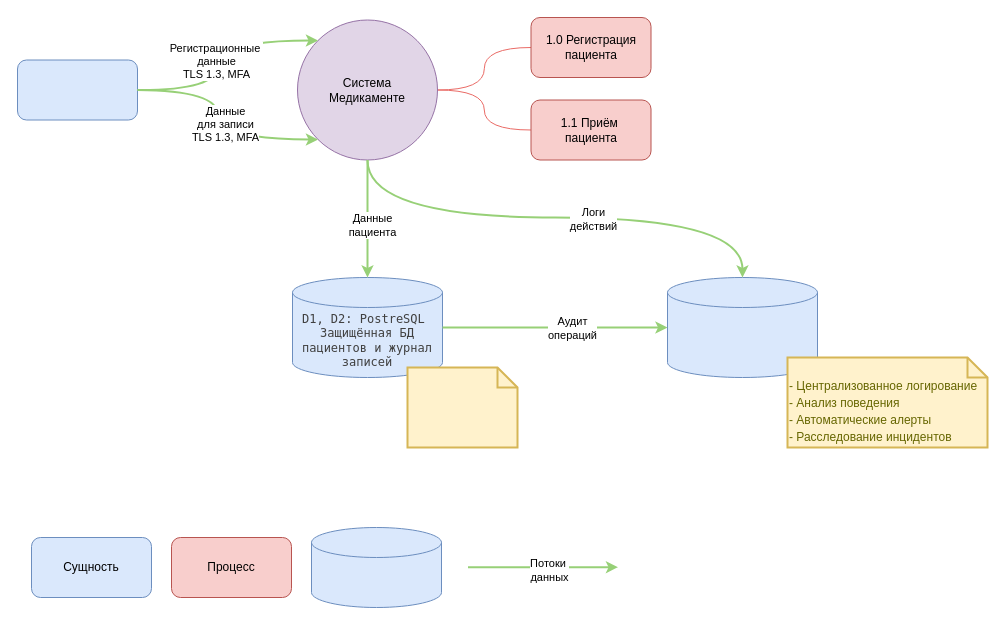
This 1006x625 diagram has some shape labels left out. The shapes that lost their labels are listed below. From the top down, each one's box as (x1, y1, x2, y2) in pixels, then its label:
(16, 59, 138, 120): Пациент
(666, 276, 818, 378): SIEM: Elasticsearch
(406, 366, 518, 448): - Шифрование - Аудит всех операций
(310, 526, 442, 608): Хранилище данных
